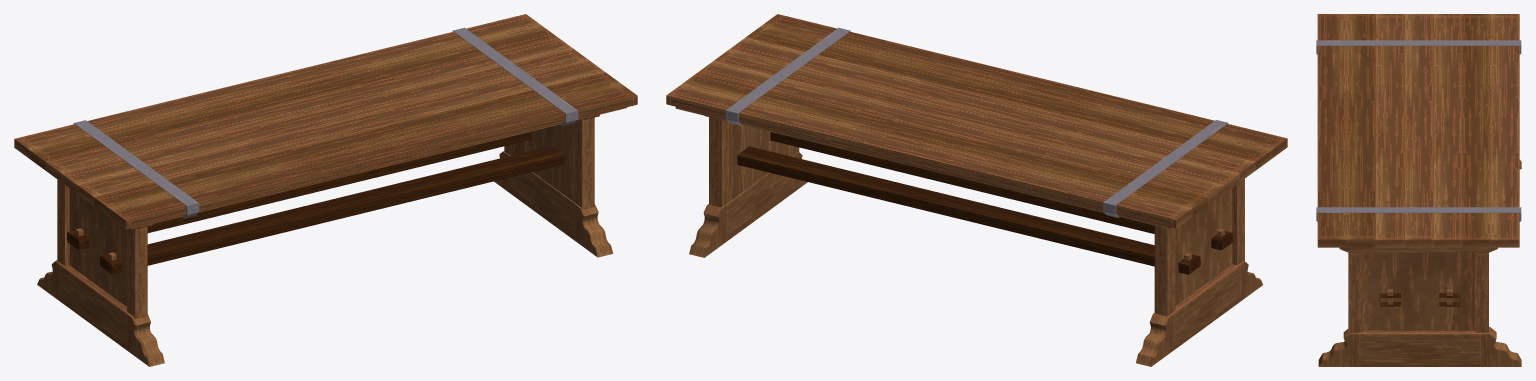
File: Table_Large.glb
3 renders of one model, left to right at view 1: azimuth 30°, elevation 25°; view 2: azimuth 150°, elevation 25°; view 3: azimuth 270°, elevation 25°, orthographic. The views are drawn at different scales.
Visible parts, largest first — view 1: Table_Large; view 2: Table_Large; view 3: Table_Large.
Part boxes in pixels (bbox=[...]): Table_Large: bbox=[14, 14, 637, 366]; Table_Large: bbox=[666, 14, 1287, 366]; Table_Large: bbox=[1316, 14, 1521, 366].
Size of the model in its own units: 2.85 by 0.8134 by 1.1.
Materials: 2 (2 with a texture image).
